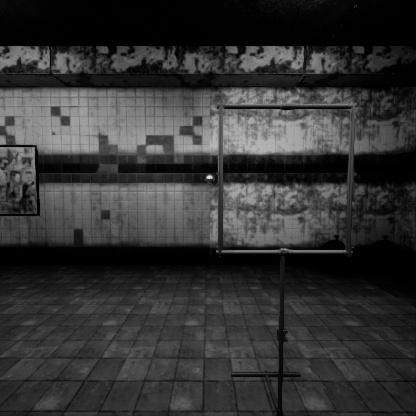gate: (218, 159, 368, 312)
